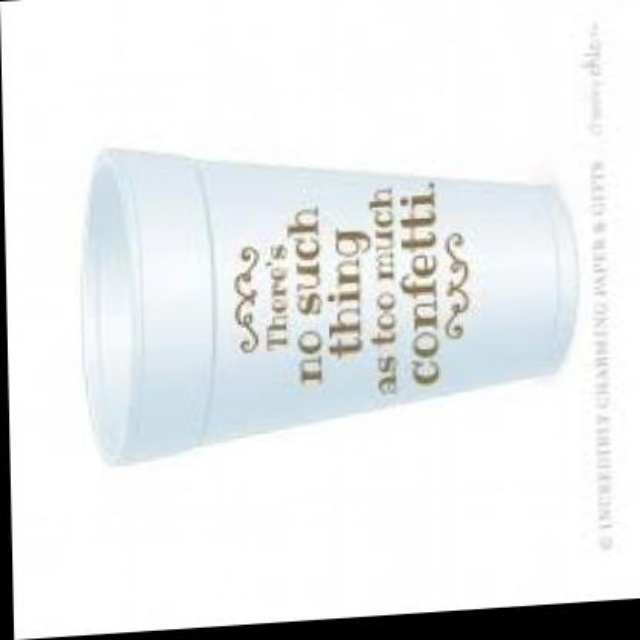trash: (85, 151, 575, 462)
